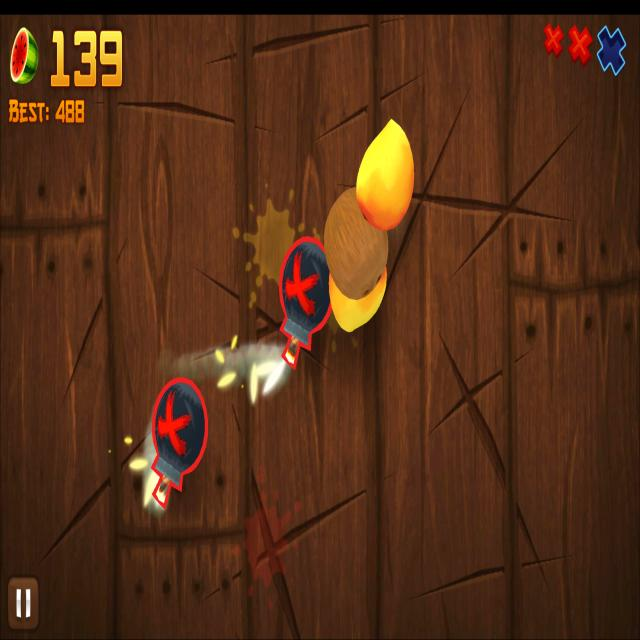bomb: (278, 236, 332, 370), (152, 378, 207, 509)
fruit: (324, 188, 388, 300), (356, 119, 415, 230), (328, 266, 388, 332)
